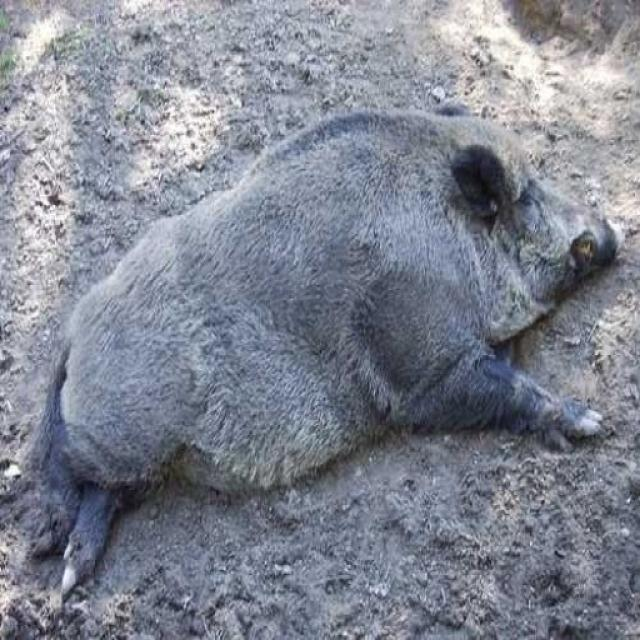pig: (19, 41, 634, 638)
